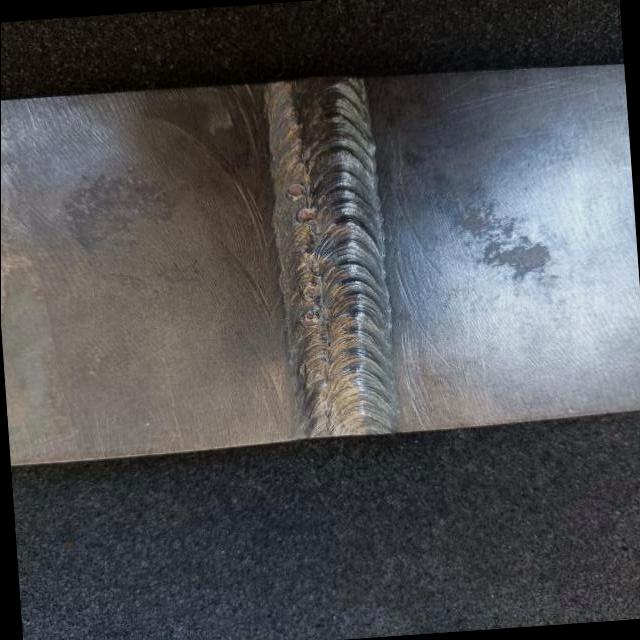defect: (297, 284, 323, 301), (296, 308, 321, 325), (284, 181, 307, 198), (294, 206, 315, 223), (298, 246, 310, 255)
